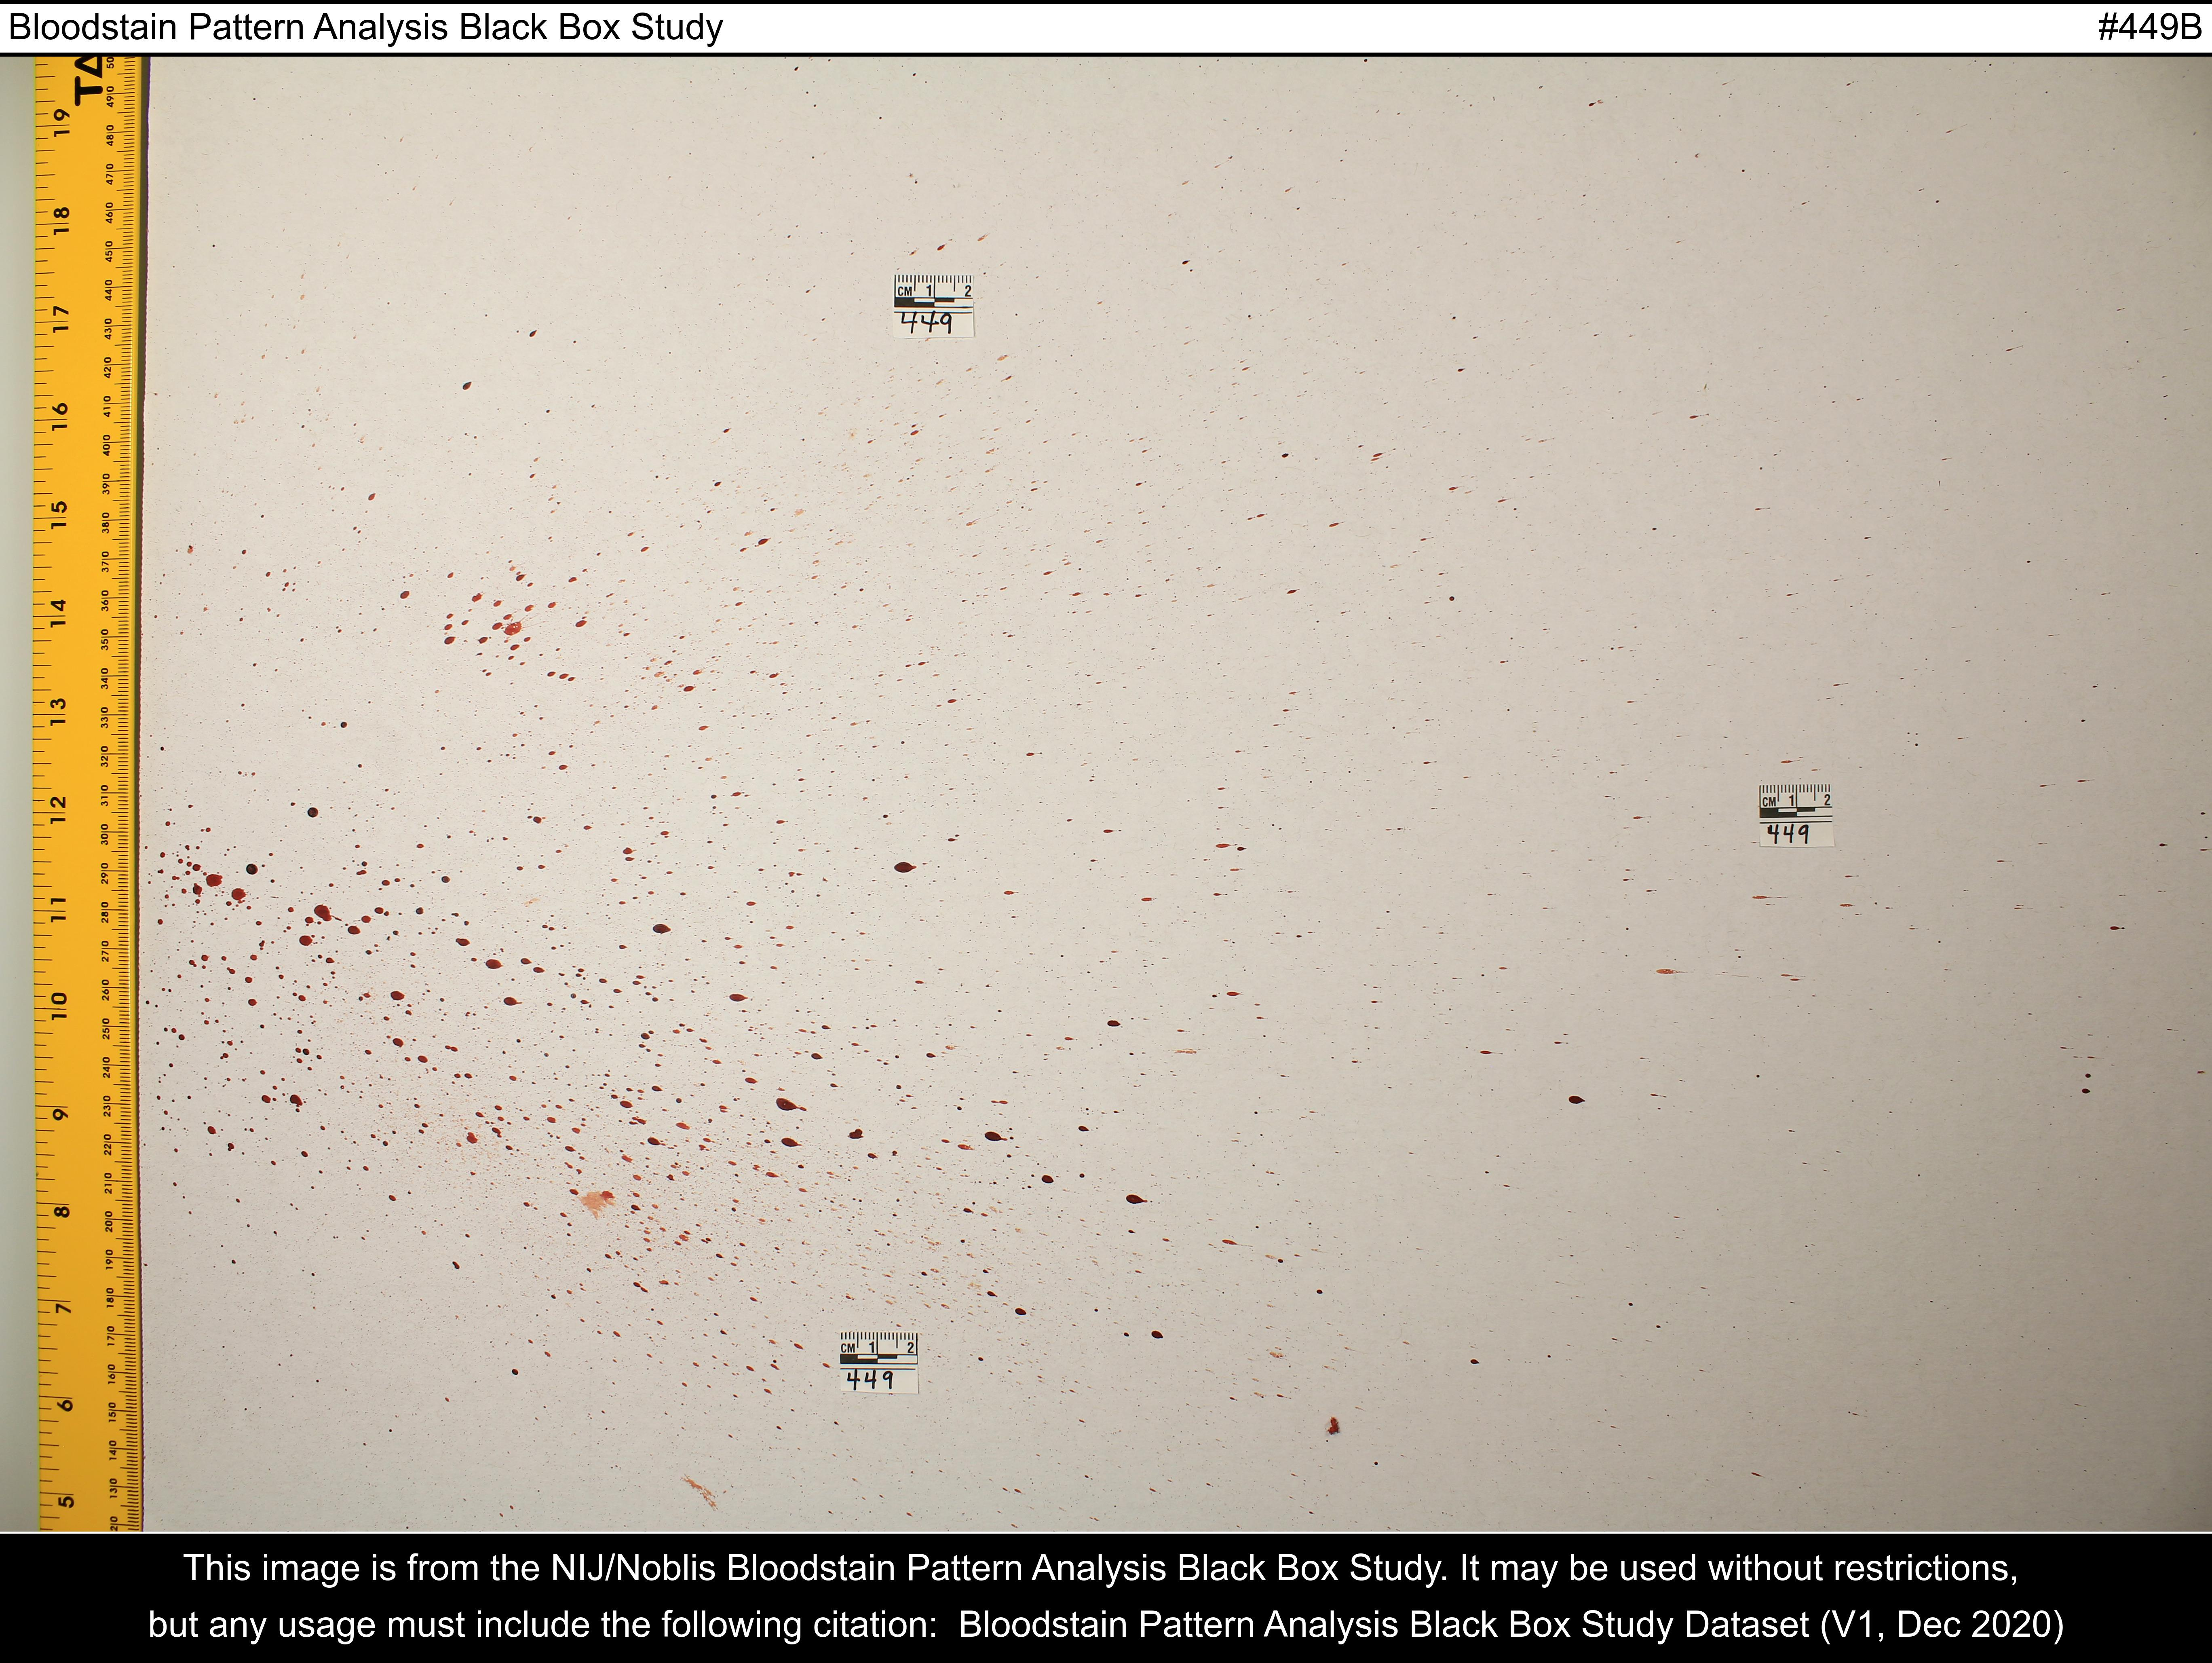Impact: (140, 327, 1683, 1321)
